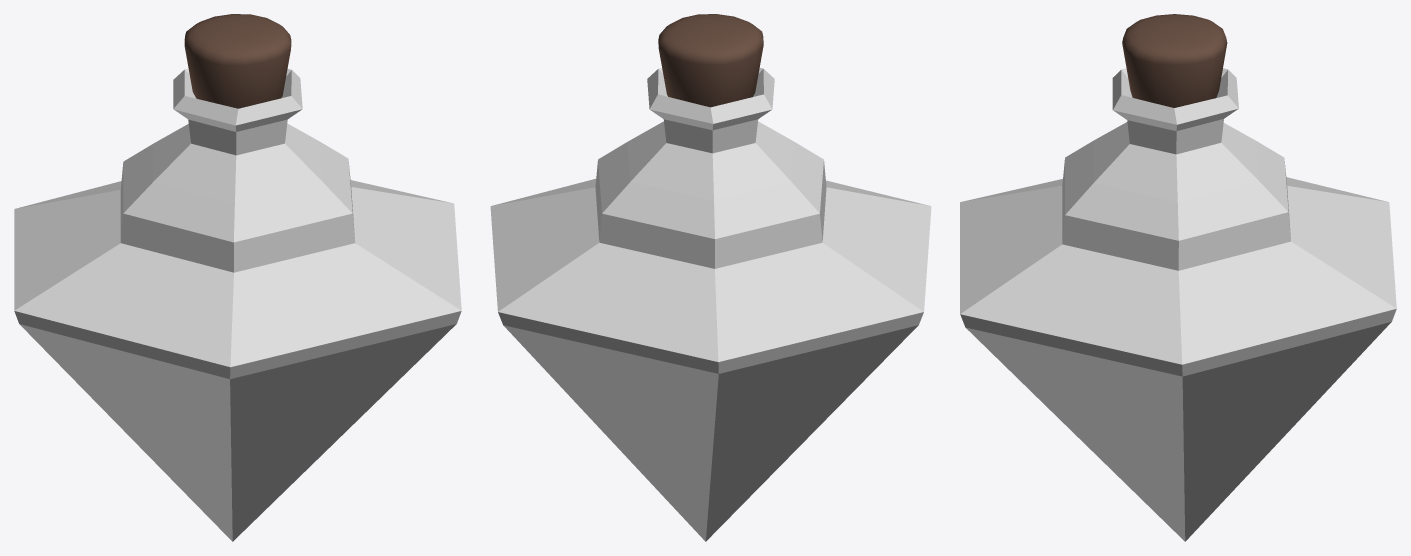
The model's file is potion11_empty.glb.
3 views of the same model, side by side, from view 1: azimuth 30°, elevation 25°; view 2: azimuth 150°, elevation 25°; view 3: azimuth 270°, elevation 25° (orthographic).
Visible parts, largest first — view 1: Potion11_Empty; view 2: Potion11_Empty; view 3: Potion11_Empty.
Boxes of the visible parts, <box> form: Potion11_Empty: <box>14,14,461,541</box>; Potion11_Empty: <box>490,14,931,541</box>; Potion11_Empty: <box>960,14,1396,541</box>.
Size of the model in its own units: 0.8358 by 0.9373 by 0.7238.
